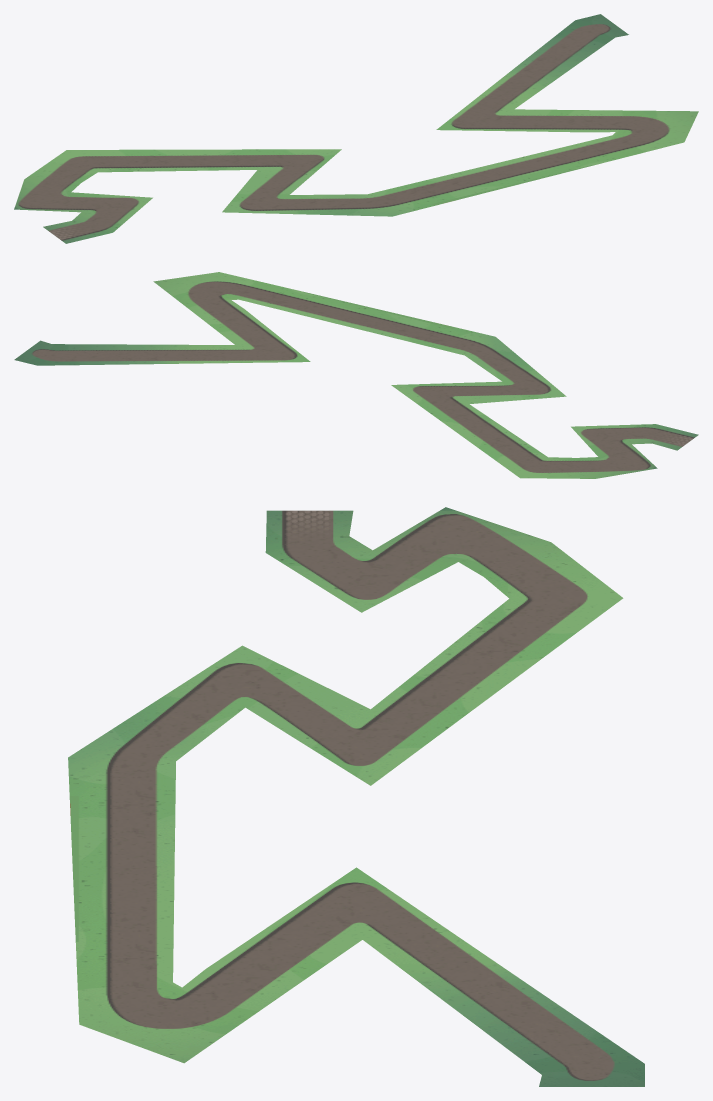
Rendered from world03_road.obj.
3 renders of one model, top to bottom at view 1: azimuth 30°, elevation 25°; view 2: azimuth 150°, elevation 25°; view 3: azimuth 270°, elevation 25°, orthographic. The views are drawn at different scales.
Visible parts, largest first — view 1: world03_road; view 2: world03_road; view 3: world03_road.
Boxes of the visible parts, box(x1,y1,x2,y2) form: world03_road: box(14, 14, 698, 243); world03_road: box(14, 272, 698, 478); world03_road: box(68, 507, 644, 1086).
Size of the model in its own units: 402 by 0 by 169.
